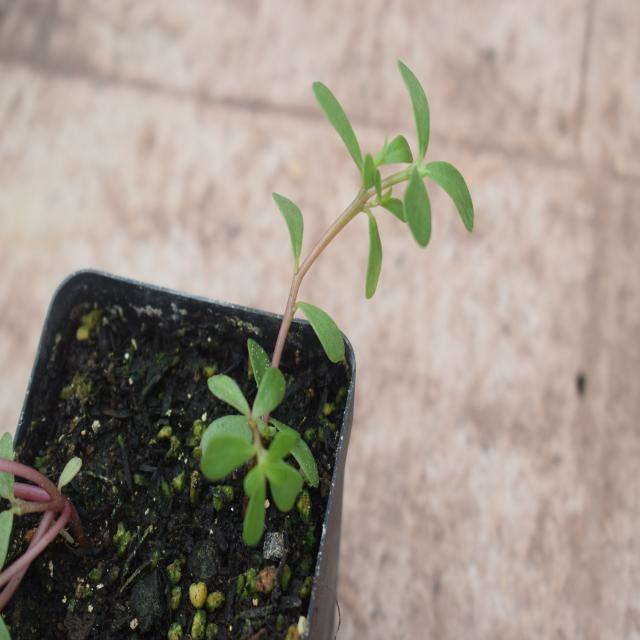purslane: (196, 67, 484, 531)
